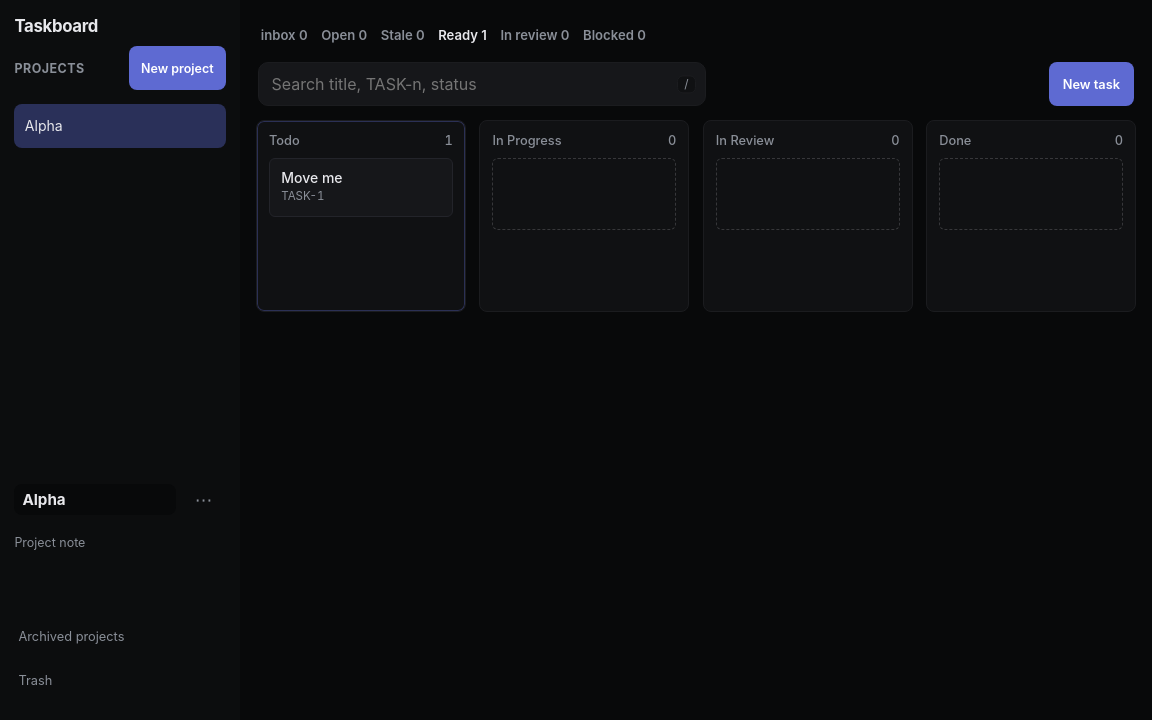
Scenario: keyboard › l move shows undo toast
Click the text "Move me": {"x": 312, "y": 178} [281,169,343,186]
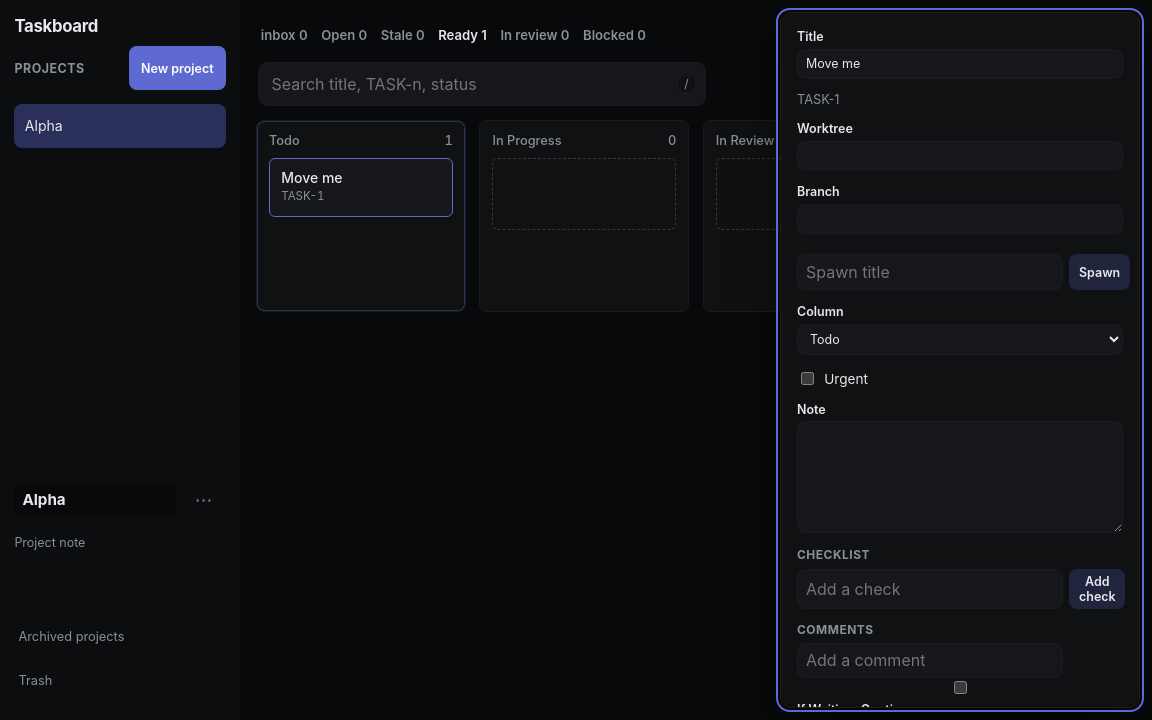
Type keys "l"
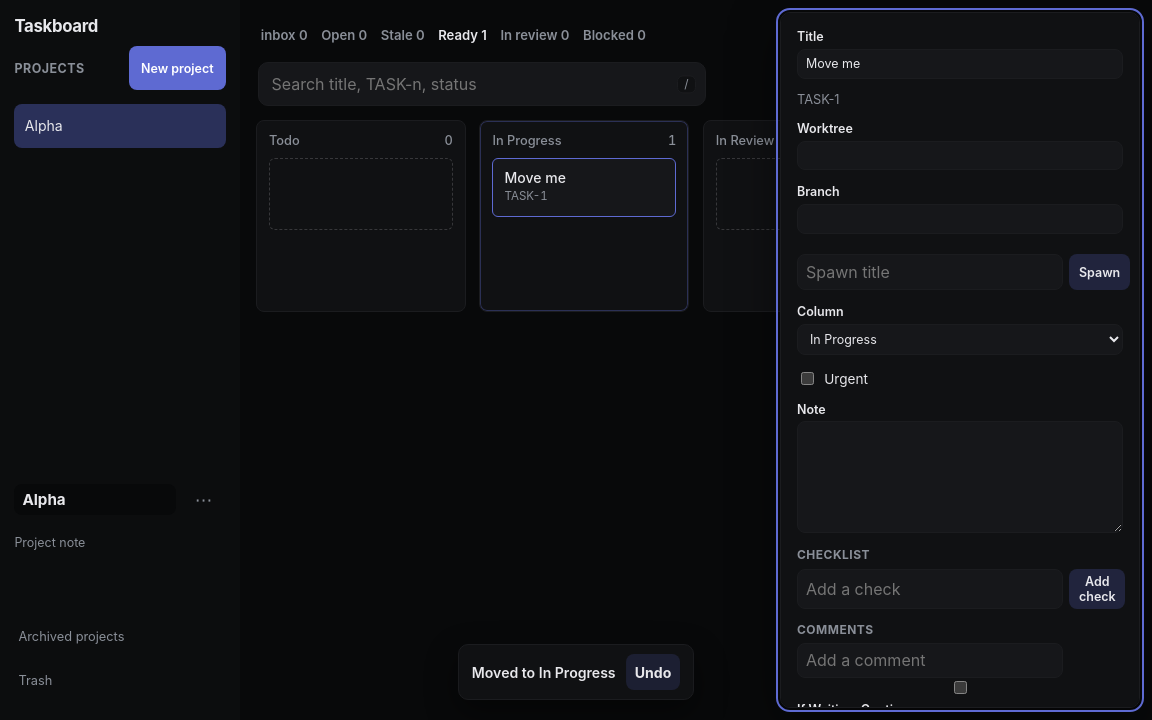
Result: the text "Moved to In Progress" is shown at [472,664,616,681]
Click the button "Undo": {"x": 653, "y": 672} [626,654,680,690]
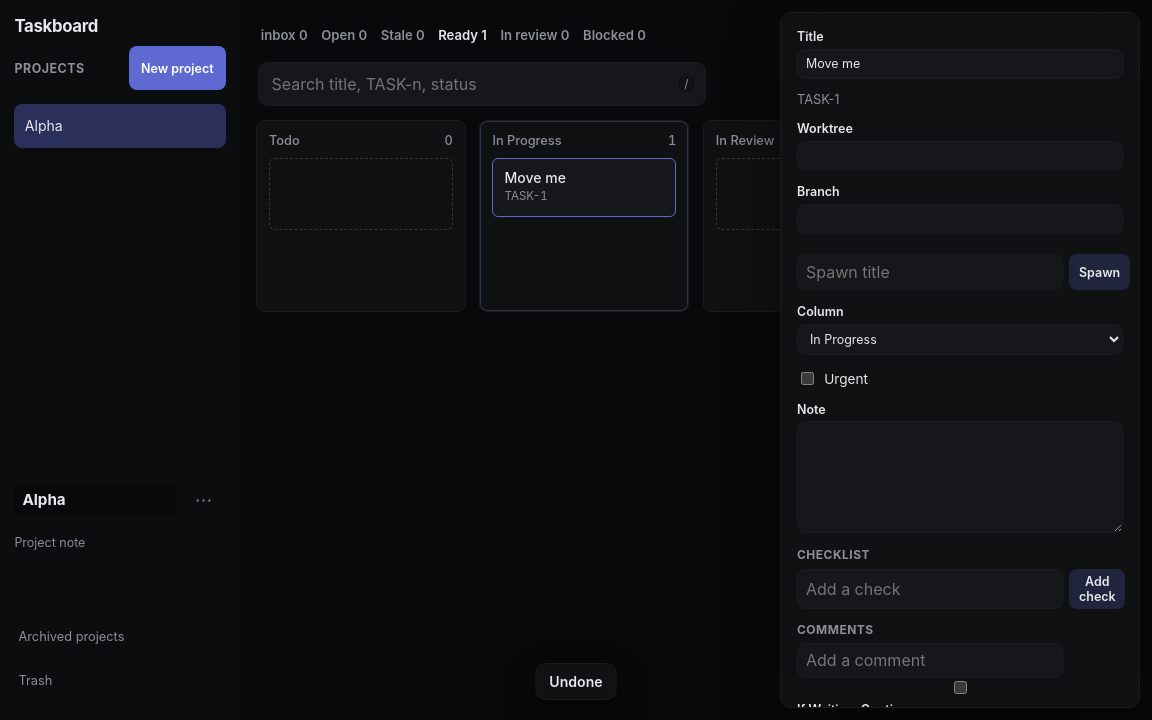
Result: the text "Undone" is shown at [549,673,603,690]
